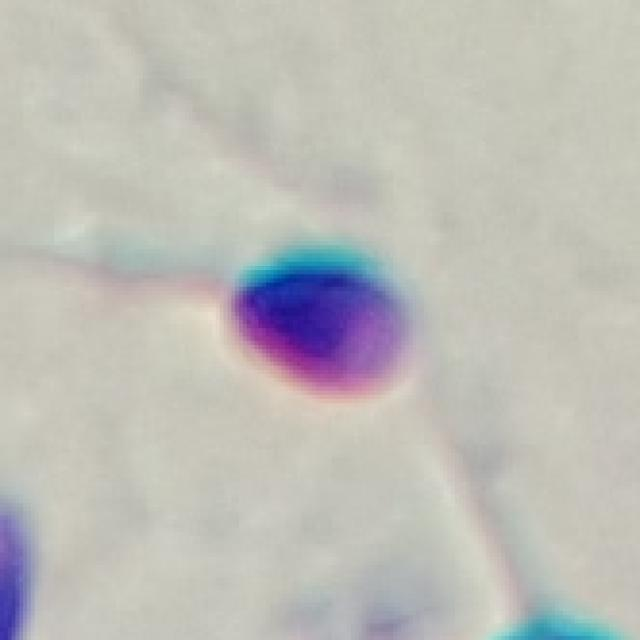normal sperm: (97, 233, 433, 417)
